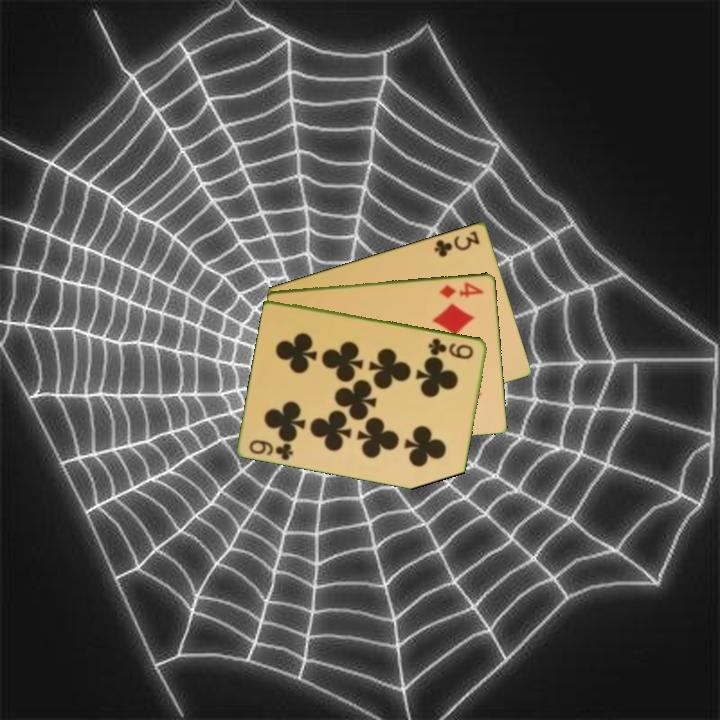3c: (431, 227, 483, 260)
4d: (436, 278, 487, 301)
9c: (425, 334, 477, 362), (246, 436, 297, 463)
